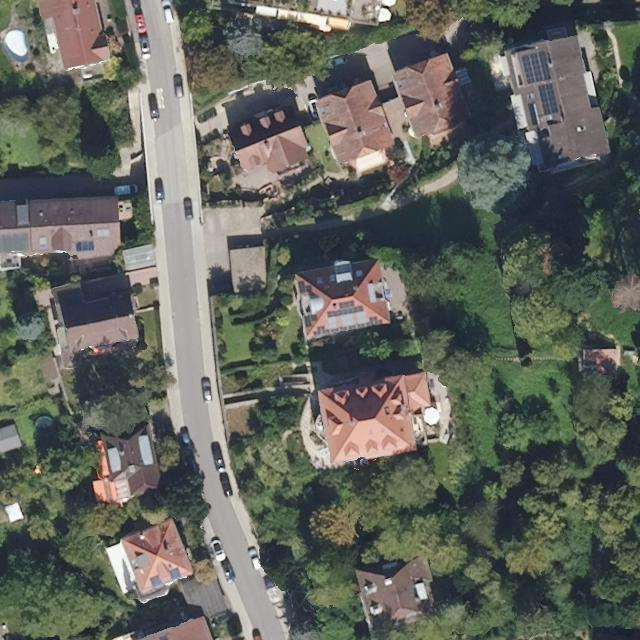PV: (313, 315, 385, 339), (520, 49, 553, 85), (537, 81, 560, 116), (327, 299, 365, 319), (168, 566, 182, 582), (304, 314, 319, 328), (76, 240, 94, 251), (149, 574, 163, 588), (298, 280, 313, 293)
